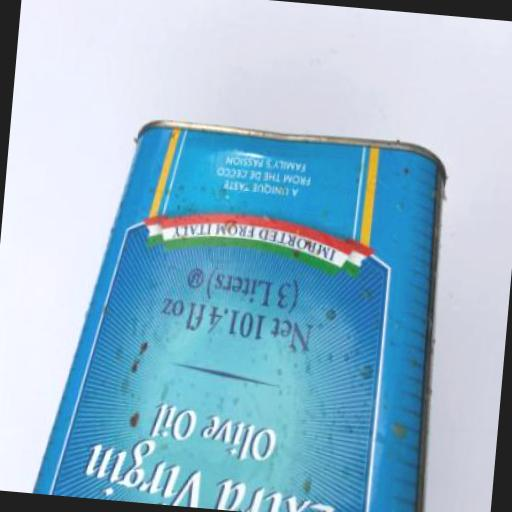metal: (30, 109, 458, 512)
